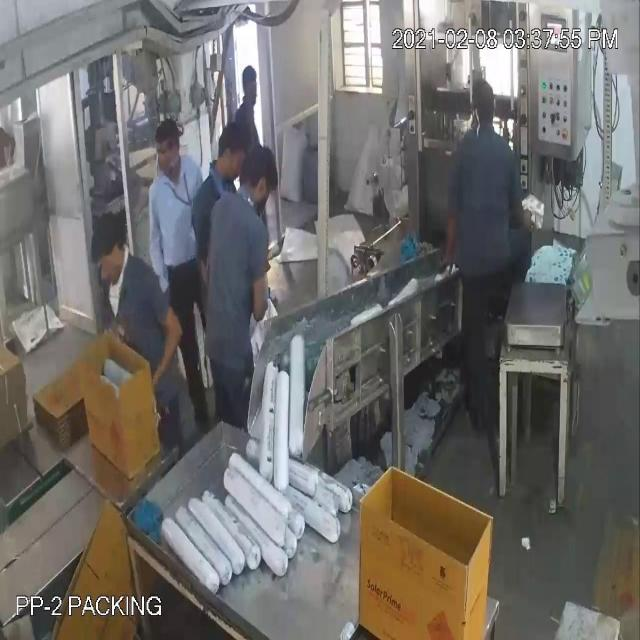No_Gloves: (152, 294, 184, 398)
